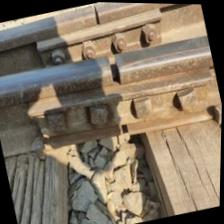person: (83, 39, 147, 100), (73, 1, 120, 35), (110, 115, 138, 144)
